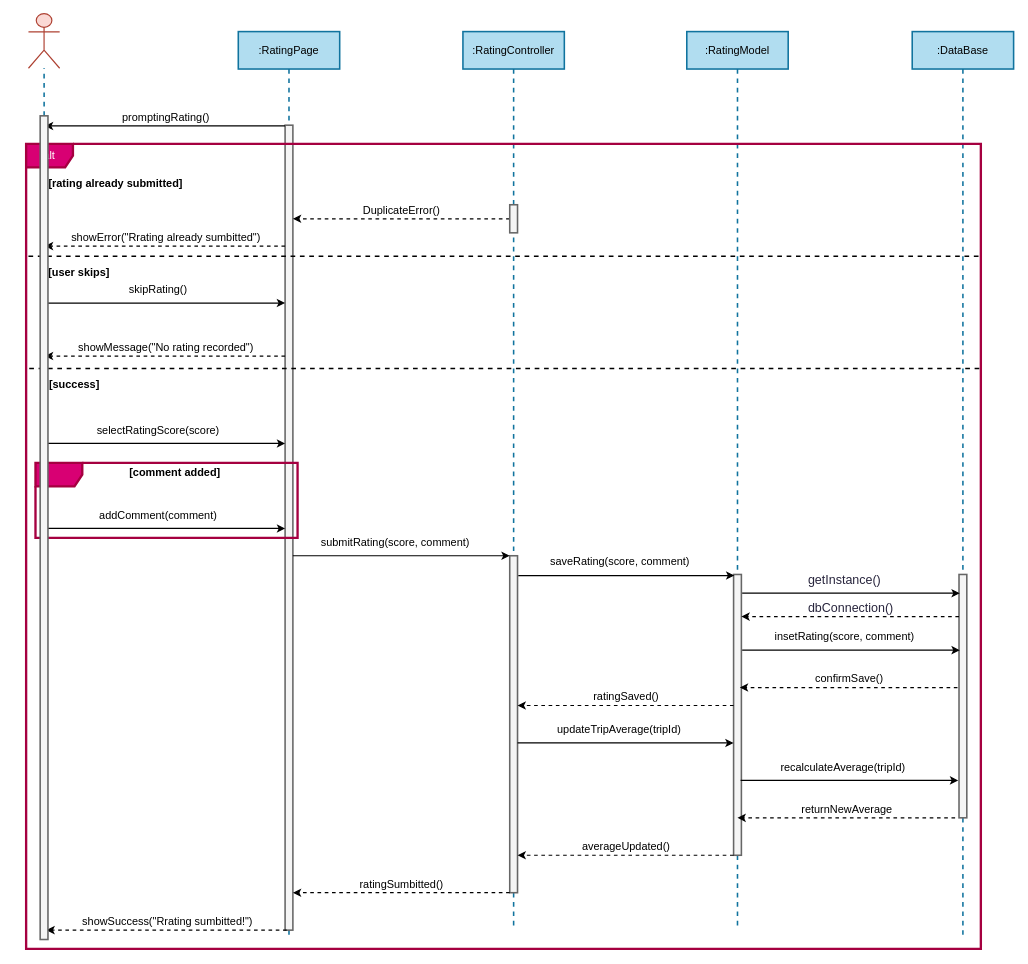
The diagram is 1028 pixels wide and 964 high, and some of its shapes have lost their labels. Here are the shapes that lost their labels. From the top down, the box of each, then its label:
(28, 13, 60, 68): Trip Member
(34, 461, 298, 539): opt
